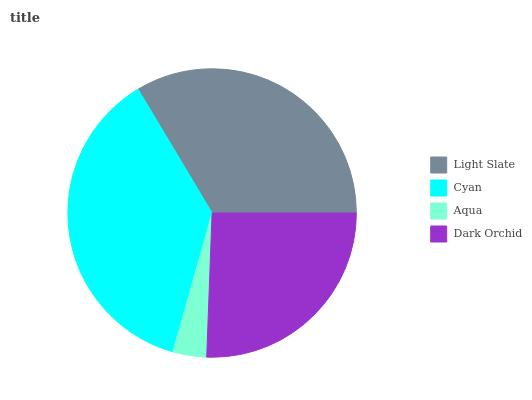legend: (412, 144, 532, 254)
sector: (68, 88, 213, 351), (137, 66, 357, 212), (206, 212, 358, 359), (174, 213, 207, 358)
